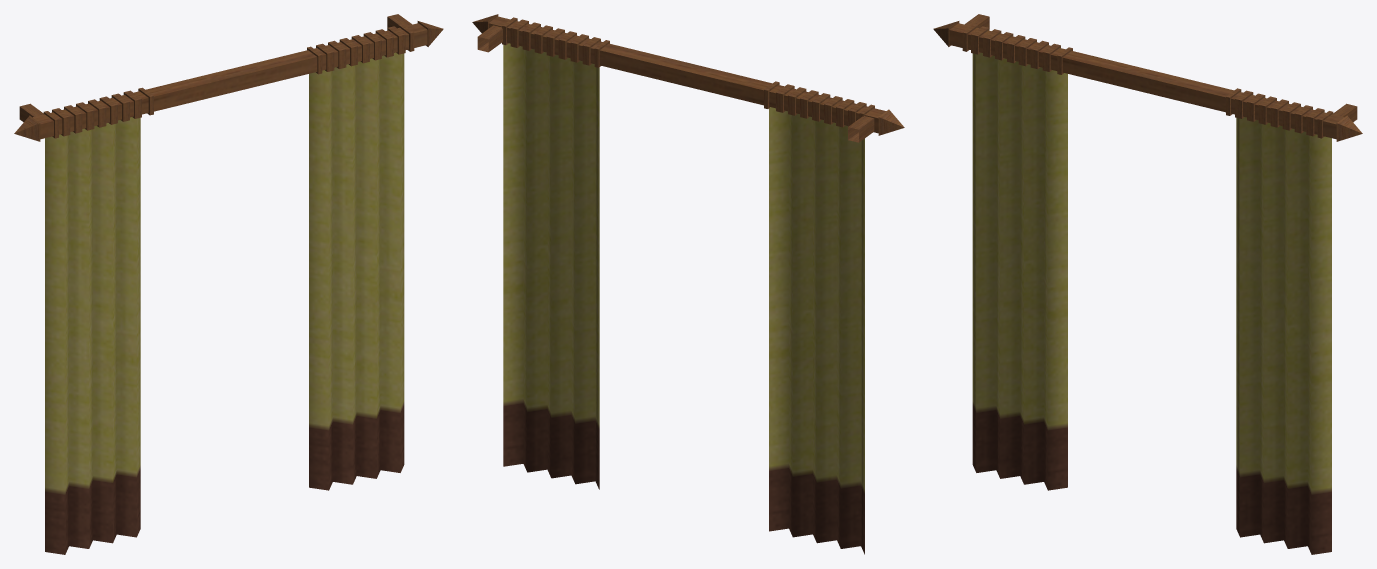
Rendered from Curtain_1A.fbx.
3 views of the same model, side by side, from view 1: azimuth 30°, elevation 25°; view 2: azimuth 150°, elevation 25°; view 3: azimuth 330°, elevation 25° (orthographic).
Visible parts, largest first — view 1: polySurface1558; view 2: polySurface1558; view 3: polySurface1558.
Part boxes in pixels (x1,y1,x2,y2): polySurface1558: (14, 14, 443, 554); polySurface1558: (472, 14, 904, 554); polySurface1558: (933, 14, 1362, 554).
Bounding box in the file's own units: 3.16 × 3.08 × 0.3278.
